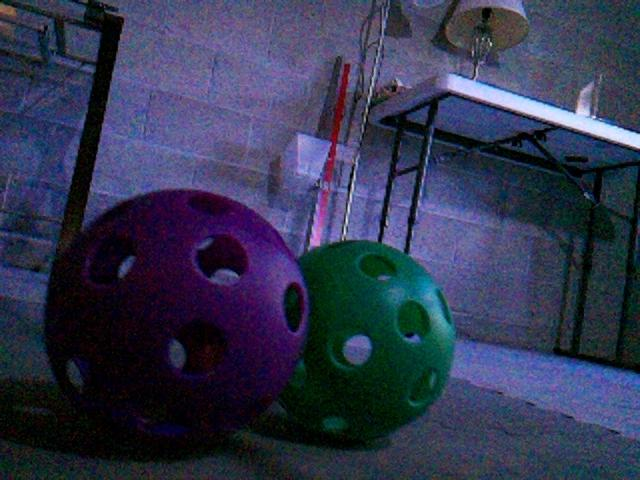Green: (276, 241, 456, 443)
Purple: (44, 188, 305, 447)
